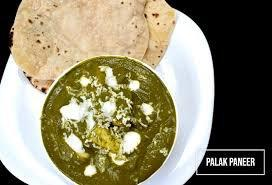palak paneer: (42, 57, 176, 185)
